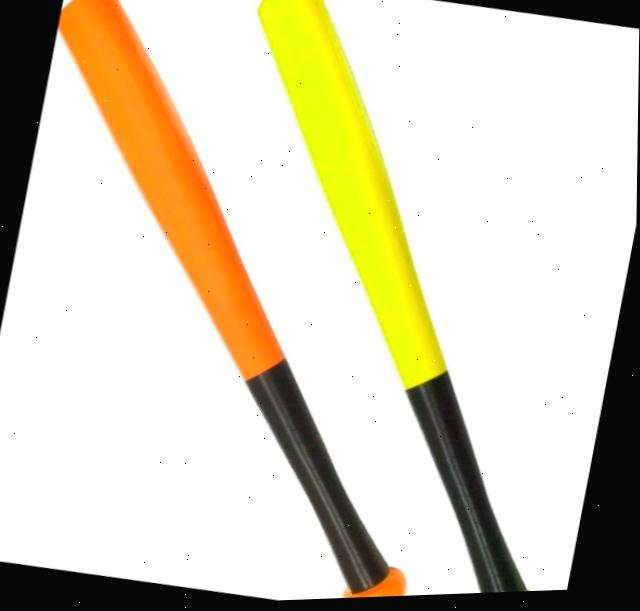baseball bat: (0, 0, 258, 587)
